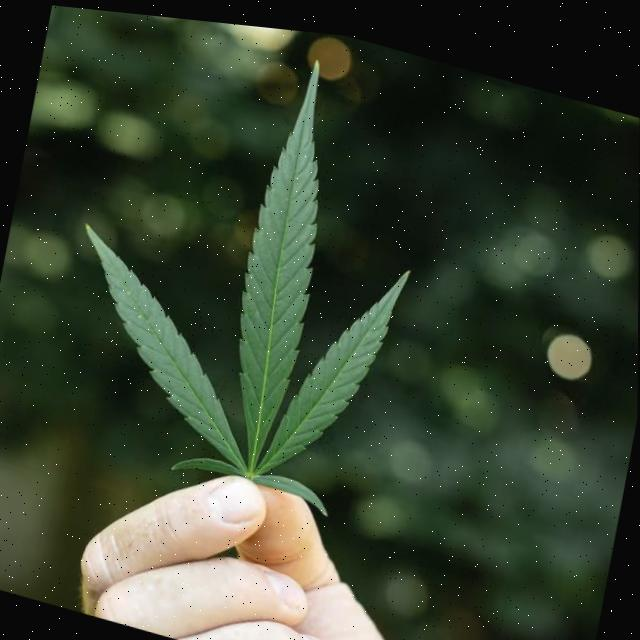cannabis: (85, 53, 406, 520)
